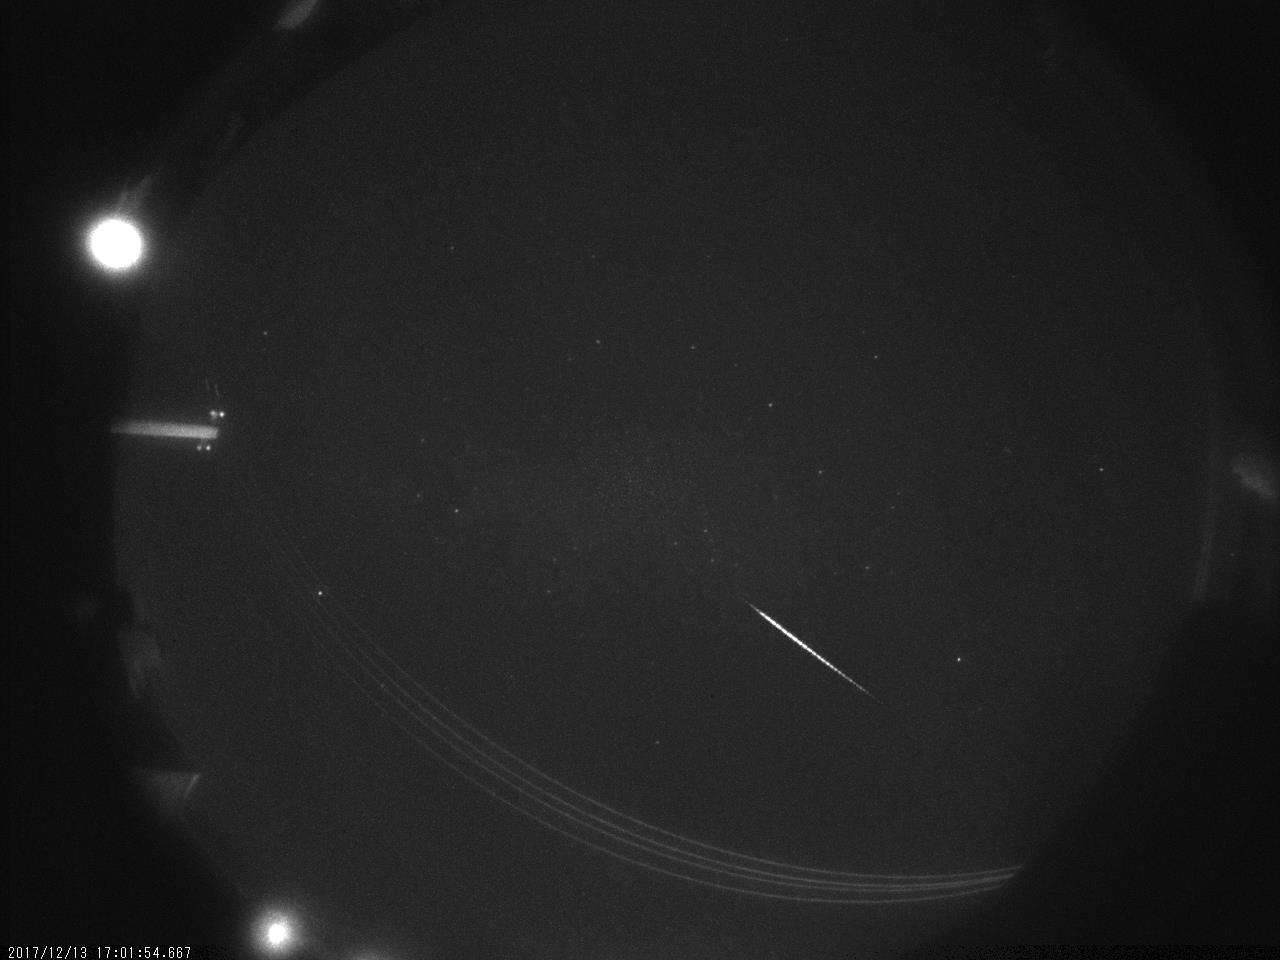meteor: (736, 591, 896, 712)
